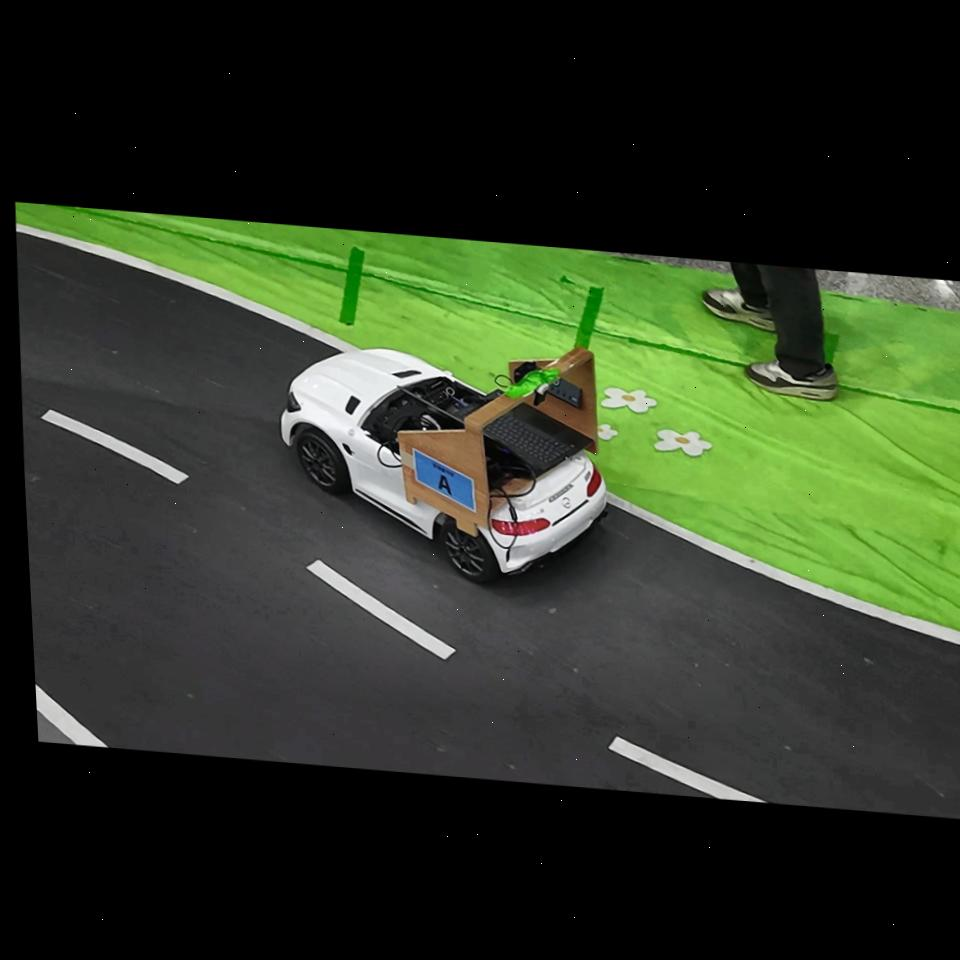broken_line: (306, 560, 455, 659), (41, 410, 188, 484), (608, 737, 766, 802)
